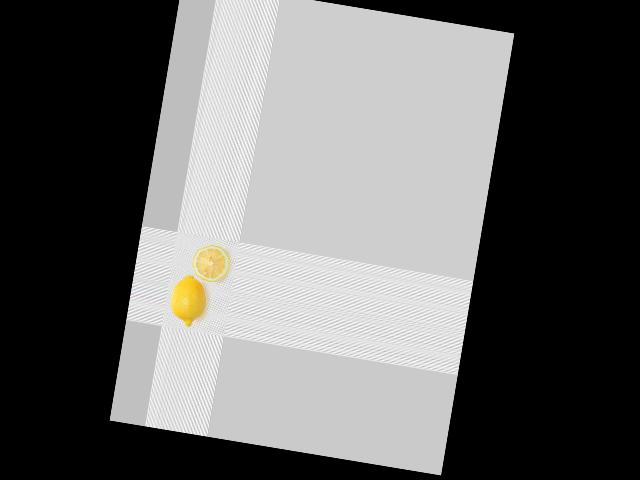lemon: (163, 266, 208, 327)
